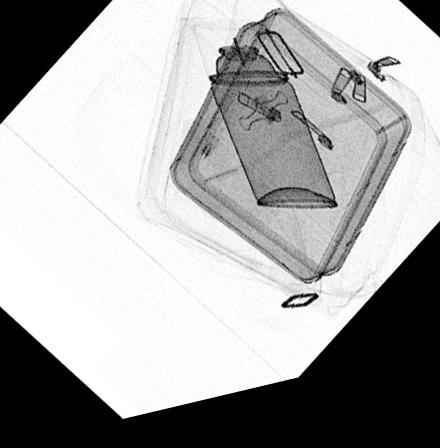Sprayer: (189, 32, 338, 226)
